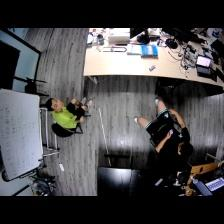normal: (132, 98, 196, 161), (46, 95, 95, 131)
